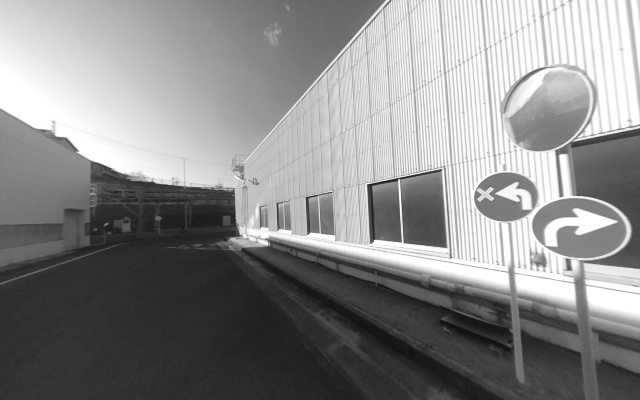bollard: (134, 221, 144, 238)
